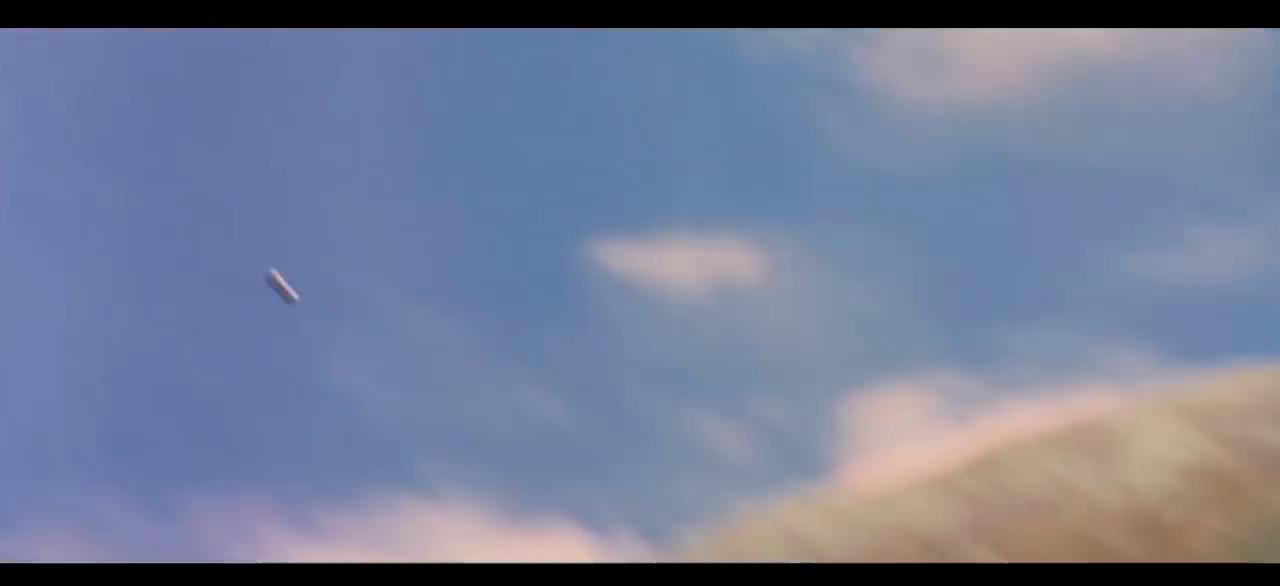snitch: (273, 280, 299, 306)
